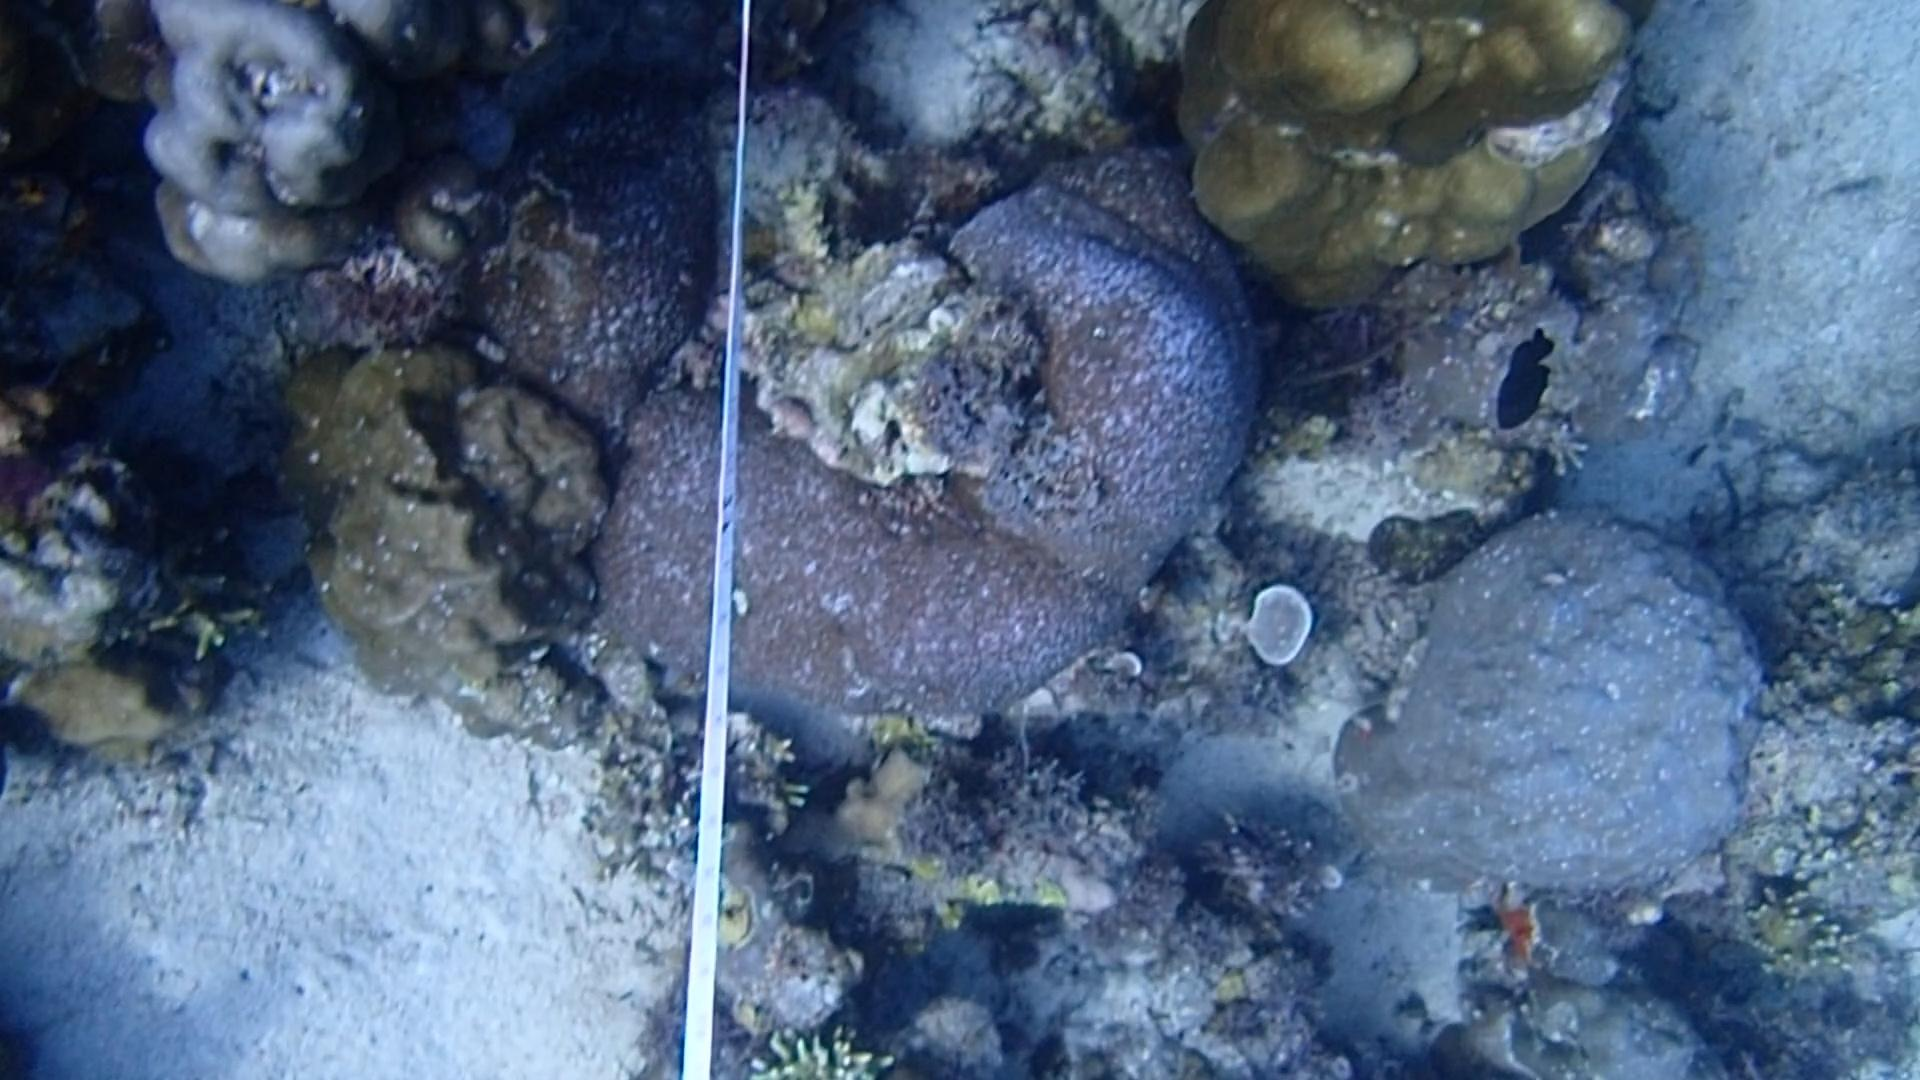Dark Fish: (1487, 332, 1565, 436)
